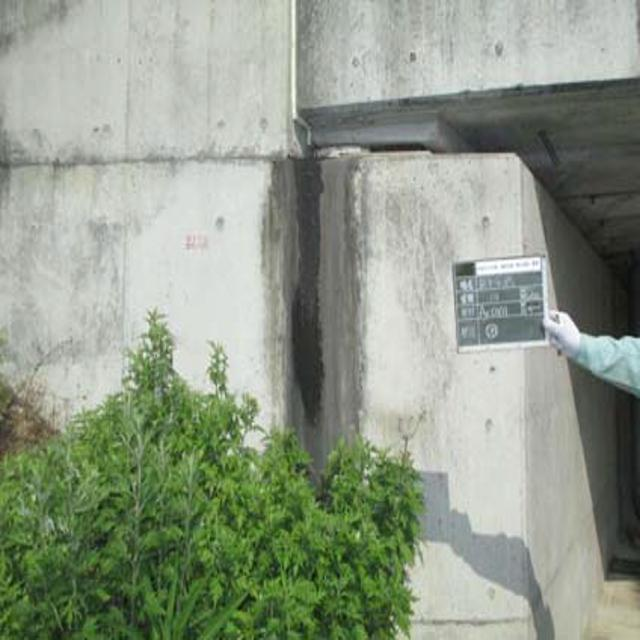leakage: (264, 157, 389, 496)
